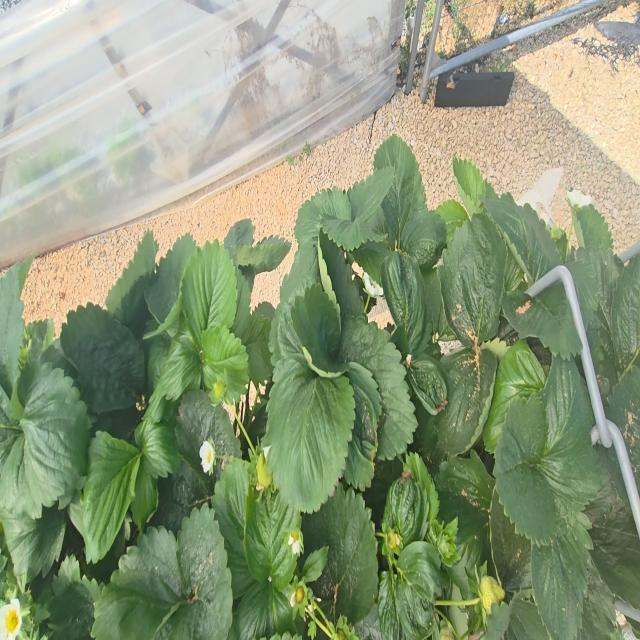Flowers: (362, 271, 383, 297), (199, 439, 215, 473), (567, 190, 591, 206), (288, 531, 303, 556), (6, 609, 19, 632)
Leaves: (266, 344, 355, 513), (12, 363, 90, 518), (340, 317, 417, 459), (302, 485, 378, 625), (92, 528, 181, 639), (494, 395, 558, 543), (541, 354, 601, 511), (60, 303, 144, 414), (438, 215, 507, 346), (81, 431, 142, 562), (606, 255, 640, 487), (531, 512, 592, 639), (425, 348, 497, 455), (482, 340, 546, 453), (484, 193, 564, 281), (587, 479, 640, 608), (502, 277, 582, 359), (378, 542, 442, 639), (178, 240, 237, 343), (374, 135, 426, 248), (175, 390, 240, 479), (246, 489, 302, 592), (159, 562, 232, 639), (212, 459, 252, 599), (380, 253, 432, 357), (435, 451, 495, 541), (0, 507, 68, 582), (150, 322, 202, 419), (106, 231, 158, 327), (177, 505, 227, 604), (0, 428, 54, 518), (145, 234, 198, 323), (291, 284, 344, 372), (151, 462, 212, 535), (320, 232, 364, 328), (490, 491, 531, 589), (0, 260, 31, 389), (383, 461, 427, 545), (200, 325, 248, 399), (233, 579, 289, 639), (401, 452, 439, 539), (295, 187, 351, 246), (585, 248, 623, 331), (485, 591, 550, 639), (49, 578, 99, 639), (241, 302, 274, 386), (401, 208, 446, 268), (347, 168, 393, 225), (135, 420, 181, 477), (407, 353, 447, 414), (566, 260, 599, 329), (236, 235, 291, 274), (322, 216, 384, 250), (453, 157, 485, 216), (573, 204, 613, 251), (131, 465, 158, 530), (434, 199, 468, 243), (224, 219, 254, 260), (303, 546, 328, 581)
Strawberries: (310, 607, 359, 639), (478, 575, 504, 616), (378, 526, 403, 558), (256, 452, 272, 489), (210, 376, 226, 402), (295, 586, 304, 603)
